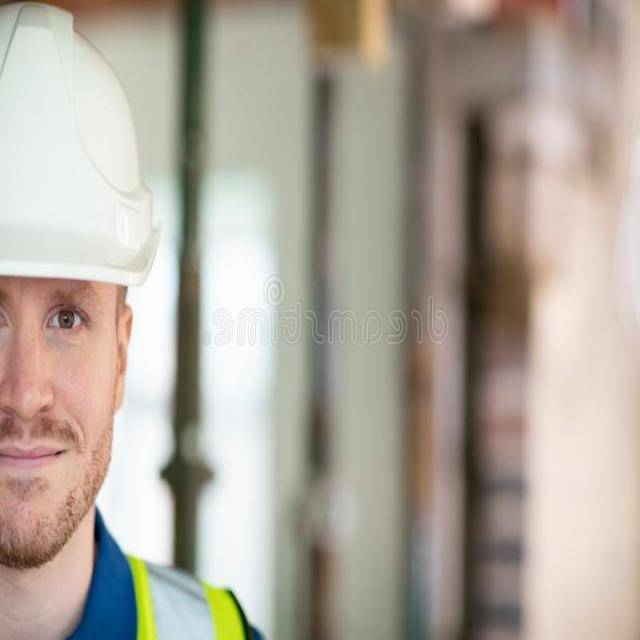Reflective-Jacket: (3, 544, 248, 640)
Safety-Helmet: (0, 8, 166, 287)
